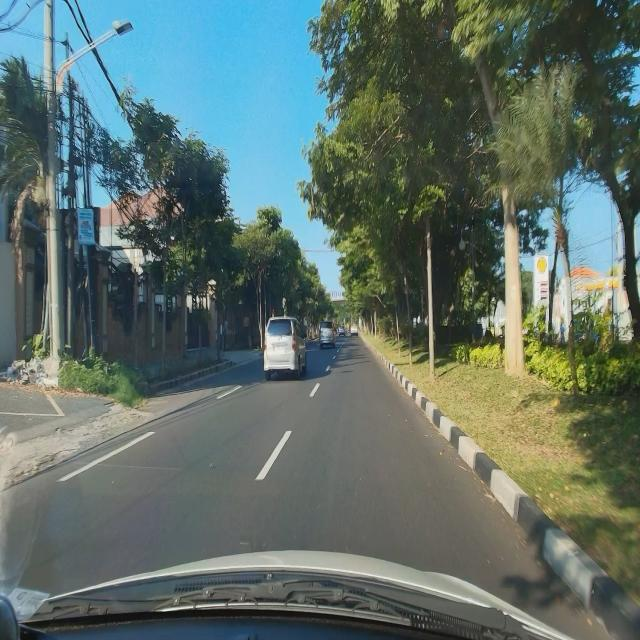car: (262, 315, 308, 382), (319, 320, 336, 350)
